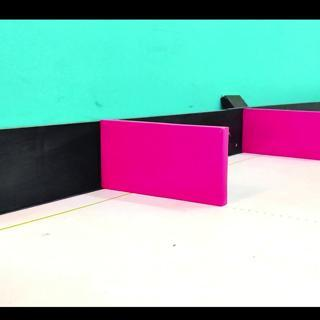xparking: (109, 131, 225, 202), (247, 114, 316, 157)
